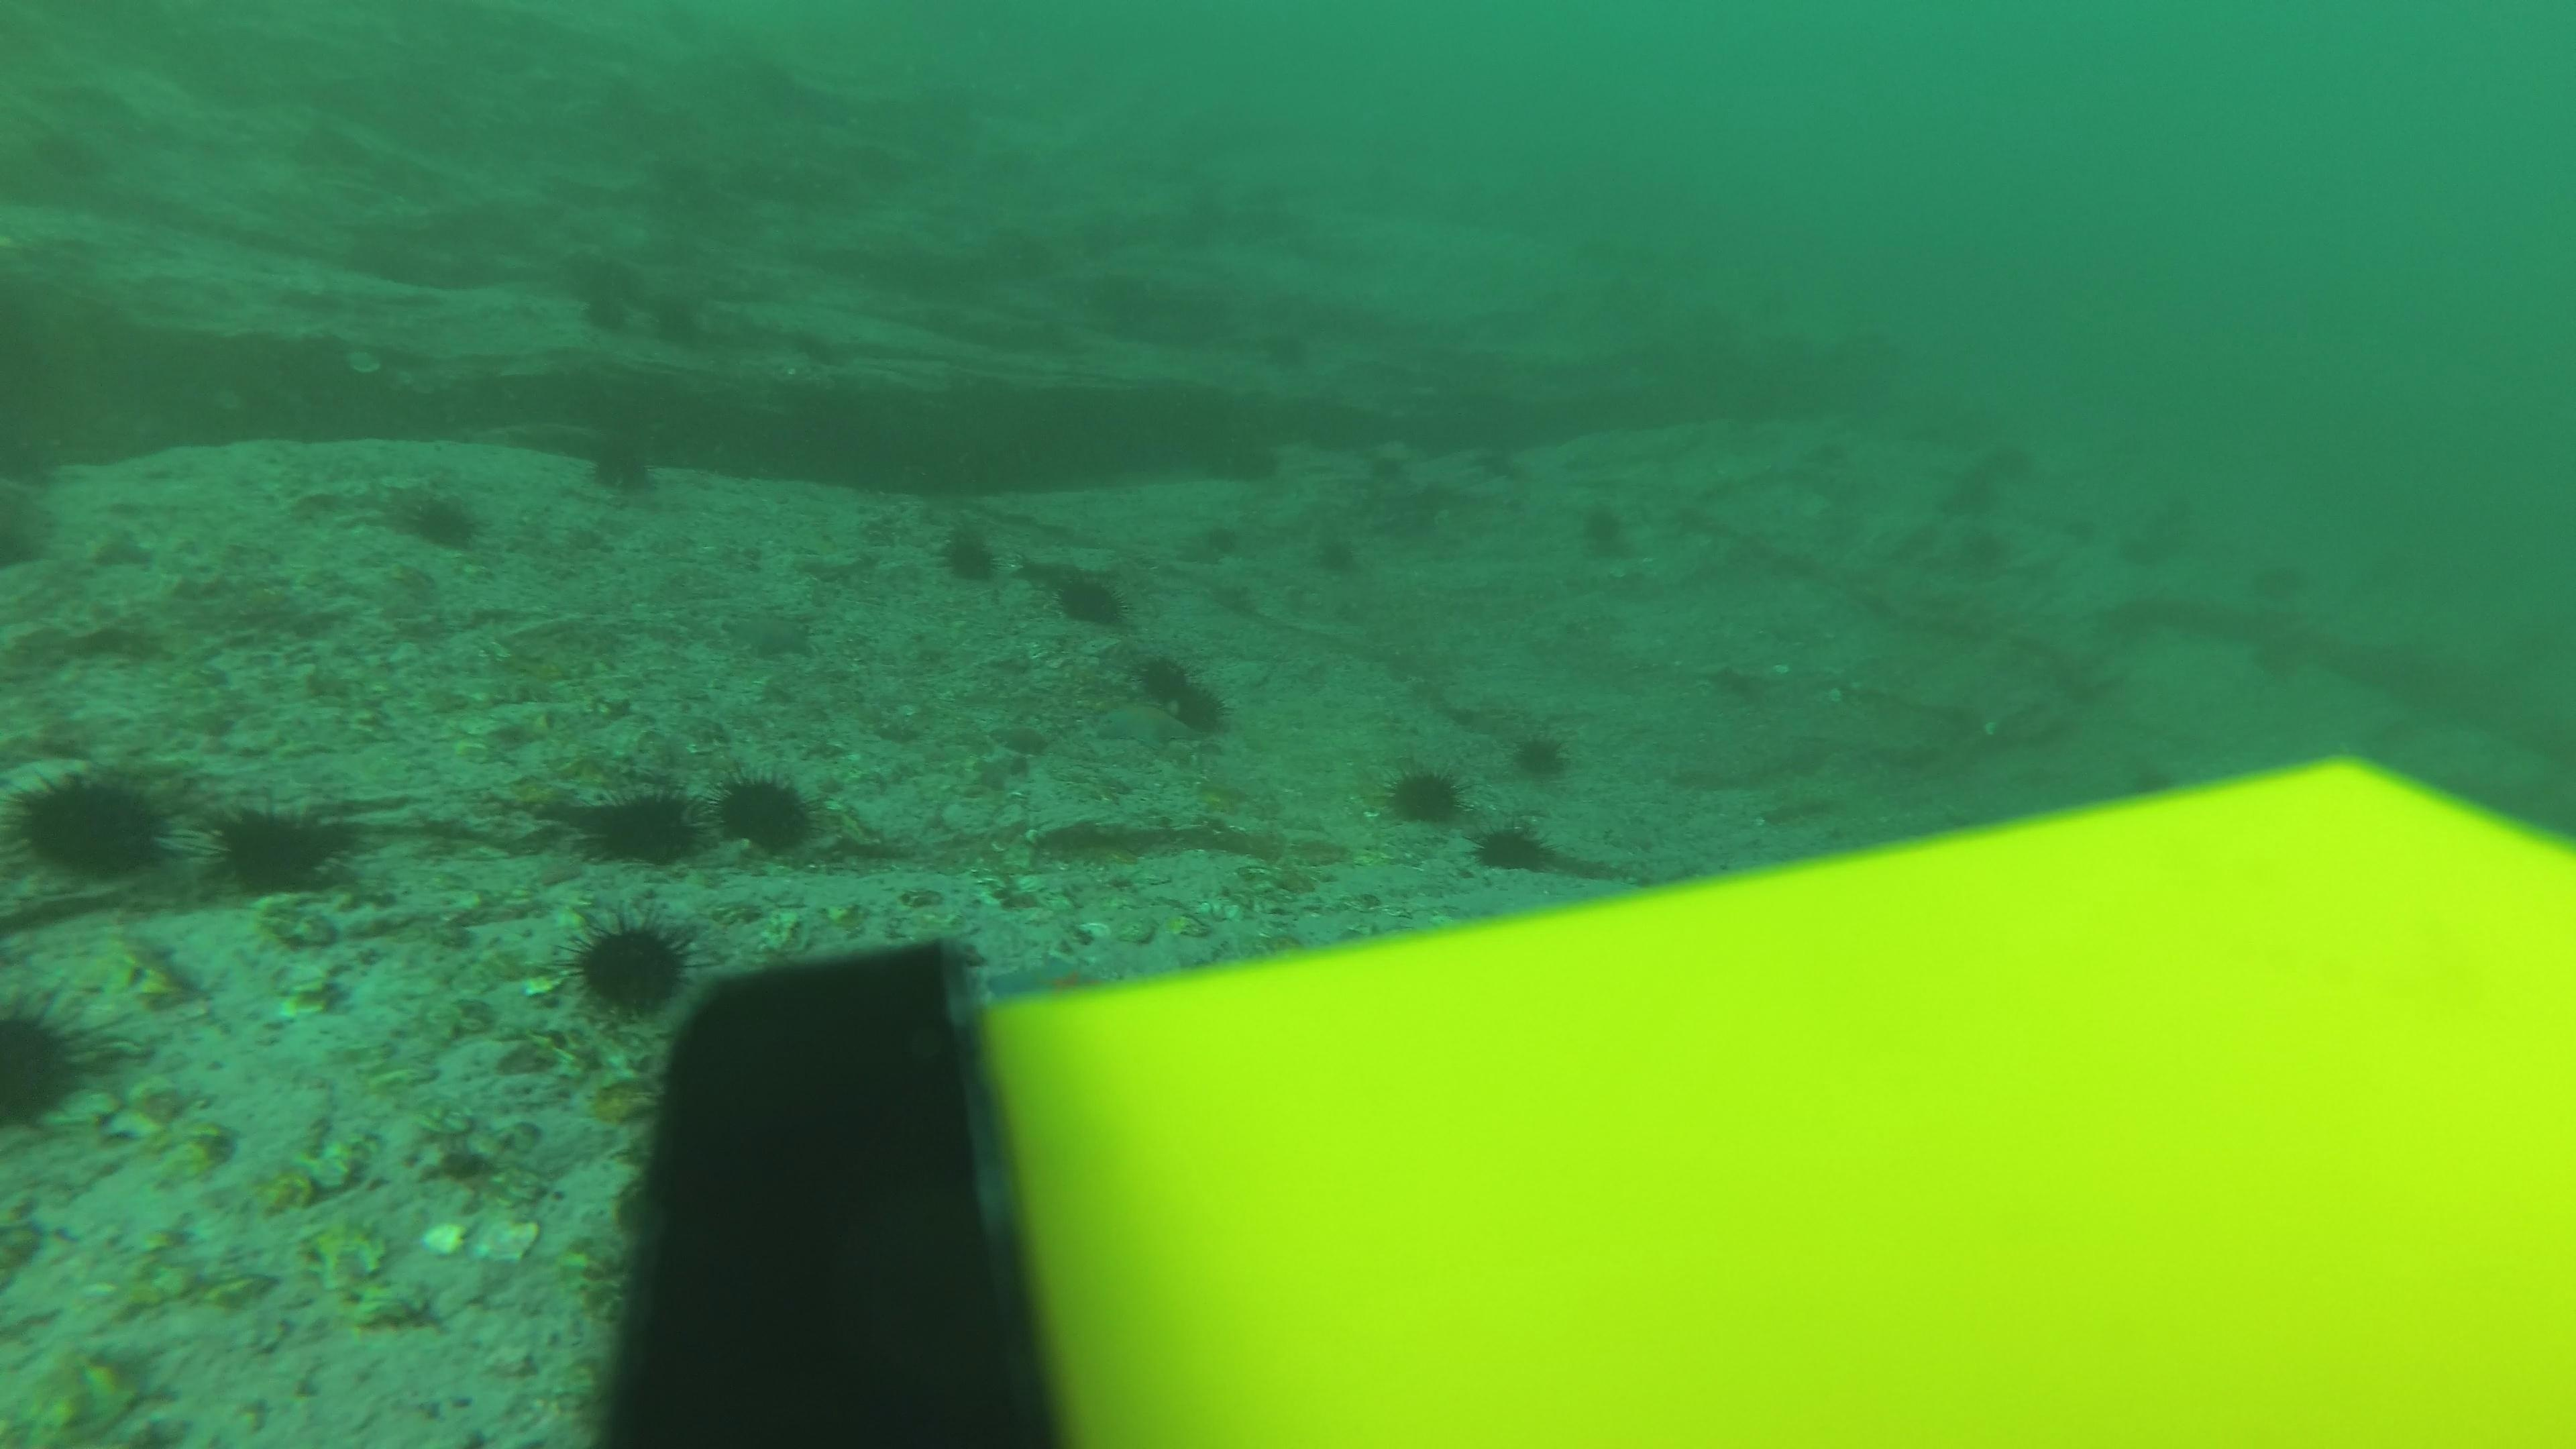echinus: (7, 759, 179, 890), (203, 793, 364, 904), (0, 985, 108, 1136), (561, 908, 697, 1023), (573, 778, 711, 874), (706, 764, 833, 865), (375, 474, 492, 557), (1376, 755, 1472, 835), (575, 423, 669, 502), (1040, 559, 1136, 633), (1465, 816, 1560, 881), (929, 517, 1012, 591), (1099, 280, 1175, 350), (1569, 495, 1644, 566), (2240, 621, 2314, 692), (2243, 548, 2318, 619), (1948, 524, 2022, 594), (1925, 462, 1999, 533), (1976, 433, 2051, 504), (1217, 433, 1292, 504), (640, 287, 717, 356), (577, 278, 651, 347), (1504, 720, 1580, 787), (1166, 678, 1235, 734), (1125, 644, 1194, 701), (1304, 525, 1369, 584), (1198, 517, 1244, 564), (1258, 326, 1304, 373)
starfish: (1088, 694, 1196, 755), (720, 602, 823, 665)
